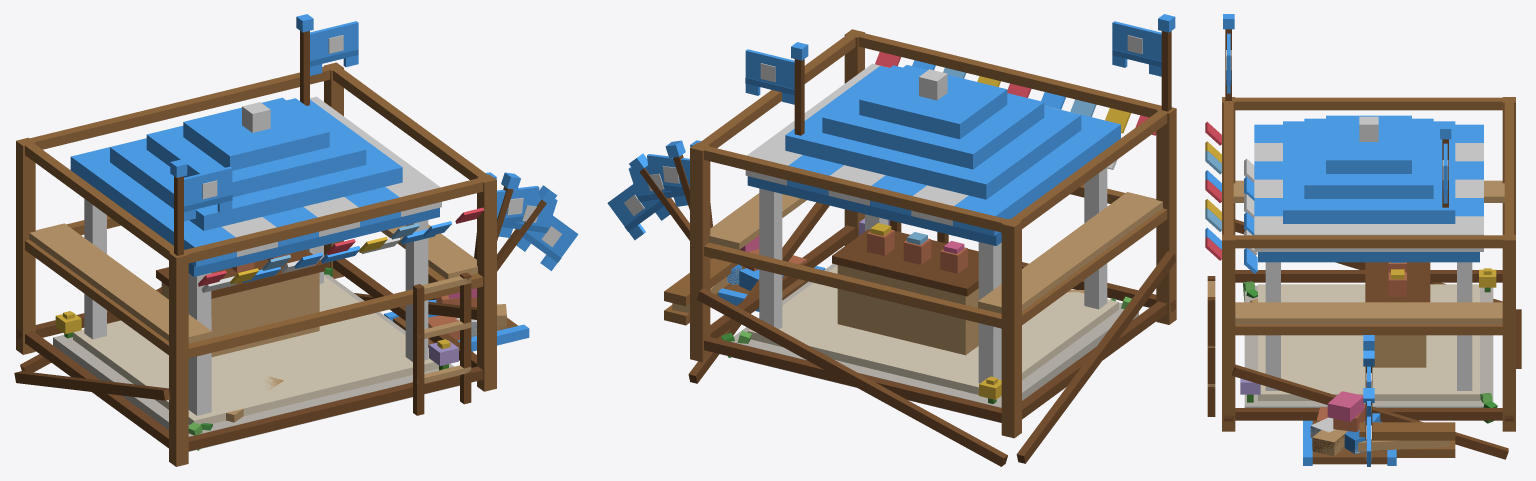
File: butterfly-producer.glb
3 renders of one model, left to right at view 1: azimuth 30°, elevation 25°; view 2: azimuth 150°, elevation 25°; view 3: azimuth 270°, elevation 25°, orthographic. The views are drawn at different scales.
Visible parts, largest first — view 1: scaffold-mesh, built-mesh, dismantle-50-mesh, dismantle-75-mesh, banner, scaffold-banner, dismantle-25-banner, dismantle-50-banner, dismantle-25-mesh, scaffold-flag-pole, flag-pole, dismantle-75-banner (+2 smaller); view 2: scaffold-mesh, built-mesh, dismantle-50-mesh, dismantle-75-mesh, scaffold-banner, banner, dismantle-25-banner, dismantle-25-mesh, dismantle-50-banner, scaffold-flag-pole, flag-pole, dismantle-75-banner (+2 smaller); view 3: scaffold-mesh, built-mesh, dismantle-50-mesh, dismantle-75-mesh, dismantle-25-mesh, scaffold-flag-pole, flag-pole, banner.
Part boxes in pixels (x1,y1,x2,y2): scaffold-mesh: [14, 62, 496, 466]; built-mesh: [53, 96, 458, 450]; dismantle-50-mesh: [53, 241, 529, 436]; dismantle-75-mesh: [53, 199, 529, 450]; banner: [310, 21, 358, 75]; scaffold-banner: [184, 166, 232, 221]; dismantle-25-banner: [516, 212, 578, 270]; dismantle-50-banner: [498, 194, 557, 242]; dismantle-25-mesh: [53, 288, 528, 430]; scaffold-flag-pole: [170, 159, 187, 255]; flag-pole: [296, 14, 313, 105]; dismantle-75-banner: [497, 186, 539, 225]; scaffold-mesh: [664, 29, 1176, 466]; built-mesh: [722, 63, 1125, 422]; dismantle-50-mesh: [718, 214, 1124, 407]; dismantle-75-mesh: [718, 160, 1138, 399]; scaffold-banner: [1112, 21, 1161, 76]; banner: [745, 49, 794, 104]; dismantle-25-banner: [607, 178, 670, 240]; dismantle-25-mesh: [718, 218, 1138, 400]; dismantle-50-banner: [628, 162, 687, 211]; scaffold-flag-pole: [1158, 14, 1175, 111]; flag-pole: [791, 42, 808, 135]; dismantle-75-banner: [647, 154, 689, 192]; scaffold-mesh: [1205, 97, 1521, 459]; built-mesh: [1242, 115, 1496, 423]; dismantle-50-mesh: [1244, 262, 1497, 465]; dismantle-75-mesh: [1244, 159, 1491, 464]; dismantle-25-mesh: [1240, 281, 1497, 464]; scaffold-flag-pole: [1223, 14, 1234, 100]; flag-pole: [1440, 124, 1451, 207]; banner: [1442, 143, 1448, 203].
Size of the model in its own units: 2.69 by 1.73 by 1.65.
